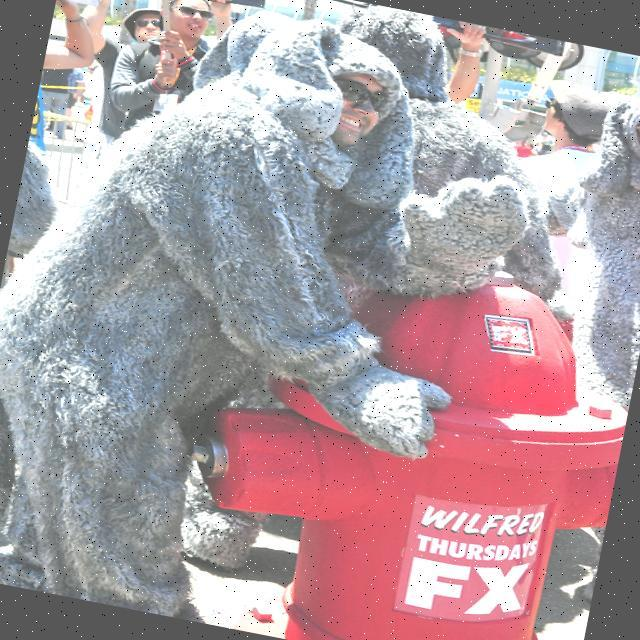fire_hydrant: (185, 215, 640, 640)
